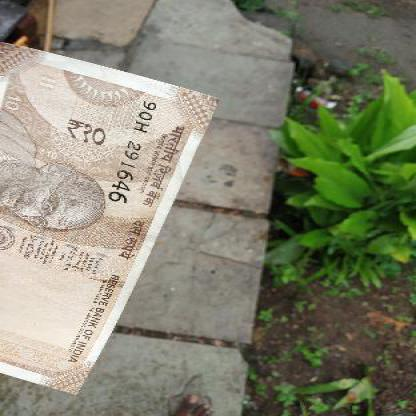New10Front: (0, 35, 220, 393)
